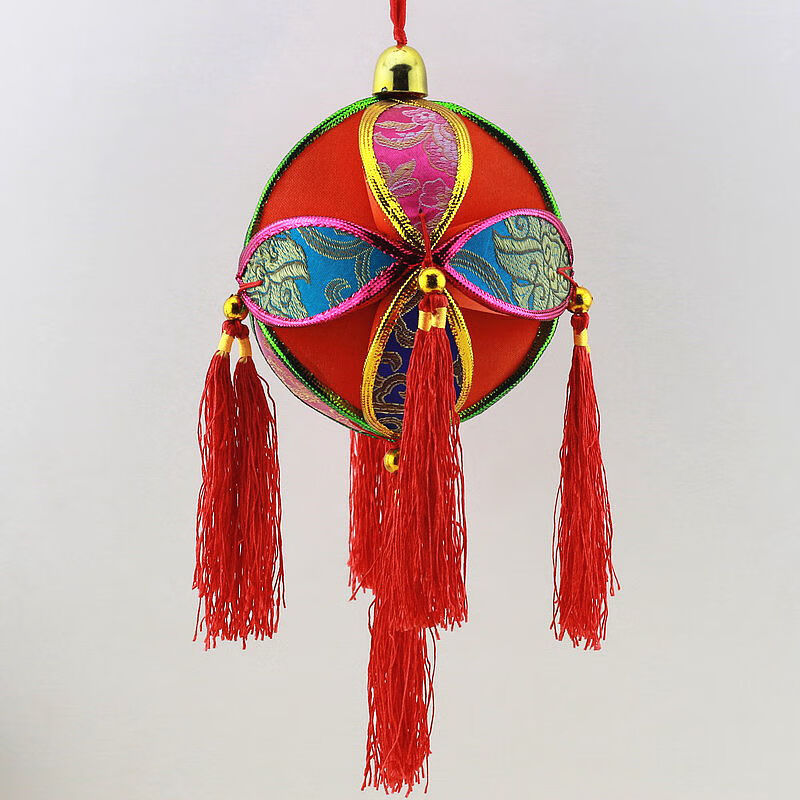xiuqiu: (240, 97, 567, 441)
